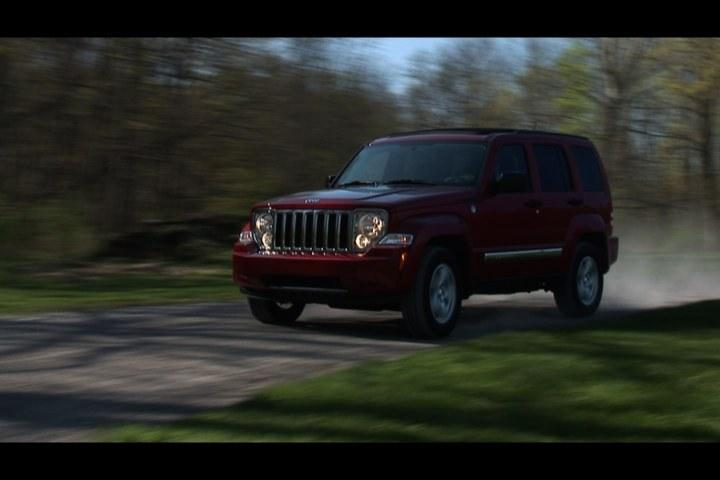car: (206, 111, 634, 355)
